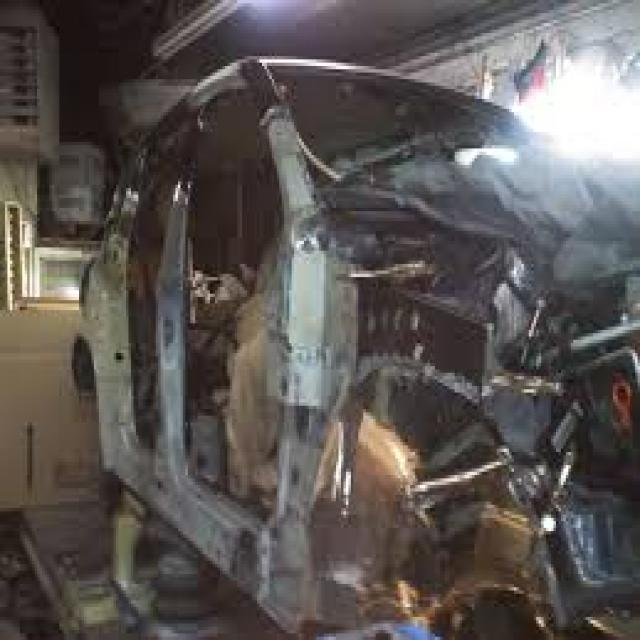severe: (156, 84, 611, 593)
